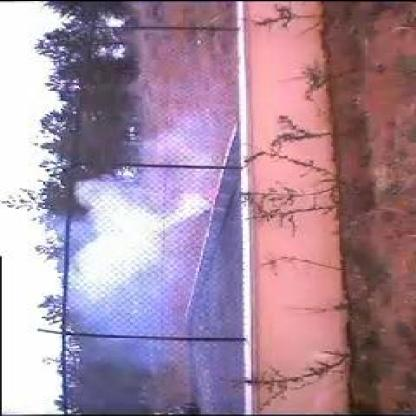-: (67, 127, 216, 340)
